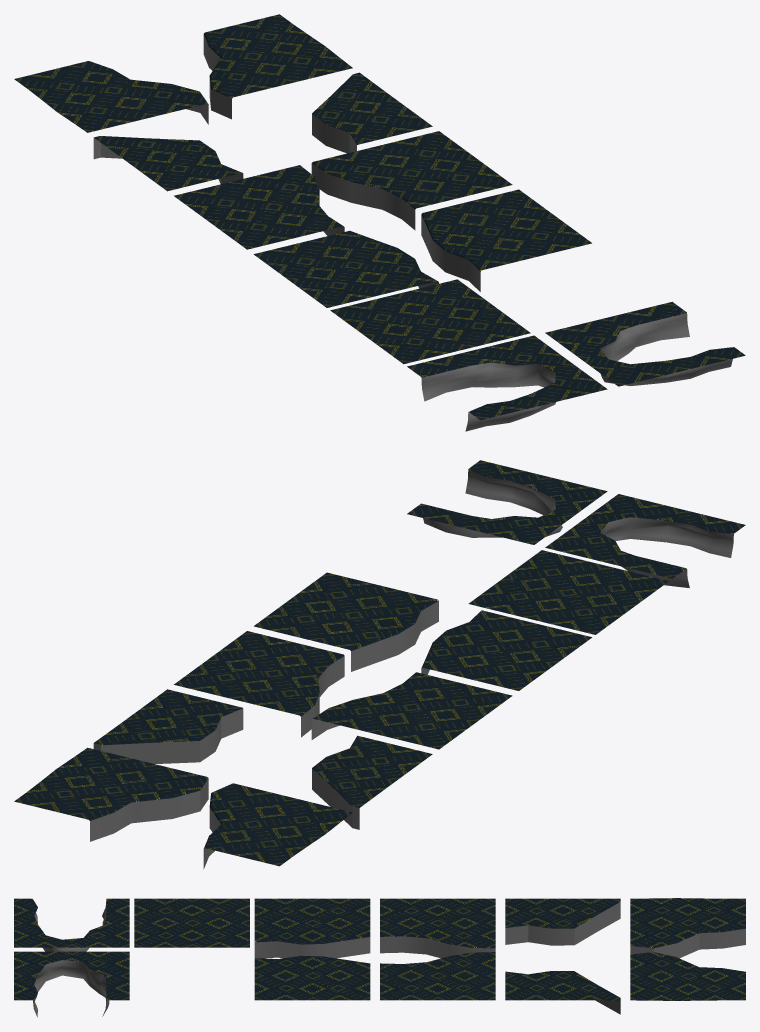
Rendered from Tiles.fbx.
3 renders of one model, top to bottom at view 1: azimuth 30°, elevation 25°; view 2: azimuth 150°, elevation 25°; view 3: azimuth 270°, elevation 25°, orthographic. The views are drawn at different scales.
Parts seen in each view (by area): view 1: Crack_2_2, Crack_1_2, Tile, FullBreak_1, Crack_4_2, Crack_2_1, Crack_1_1, FullBreak_2, Crack_4_1, Crack_3_2, Crack_3_1; view 2: Crack_4_2, Crack_1_2, Tile, Crack_2_2, FullBreak_1, Crack_2_1, Crack_1_1, Crack_4_1, FullBreak_2, Crack_3_2, Crack_3_1; view 3: Crack_1_1, Crack_2_1, Crack_4_1, Tile, Crack_1_2, Crack_2_2, Crack_3_1, FullBreak_2, Crack_4_2, FullBreak_1, Crack_3_2.
Boxes of the visible parts, bbox=[...] form: Crack_2_2: bbox=[311, 131, 512, 230]; Crack_1_2: bbox=[421, 189, 591, 291]; Tile: bbox=[330, 279, 530, 364]; FullBreak_1: bbox=[407, 335, 607, 431]; Crack_4_2: bbox=[203, 14, 352, 119]; Crack_2_1: bbox=[174, 165, 344, 249]; Crack_1_1: bbox=[253, 230, 438, 307]; FullBreak_2: bbox=[545, 301, 745, 386]; Crack_4_1: bbox=[14, 61, 208, 132]; Crack_3_2: bbox=[312, 72, 432, 153]; Crack_3_1: bbox=[93, 136, 243, 191]; Crack_4_2: bbox=[14, 747, 208, 841]; Crack_1_2: bbox=[254, 572, 438, 671]; Tile: bbox=[468, 550, 668, 634]; Crack_2_2: bbox=[174, 631, 344, 737]; FullBreak_1: bbox=[545, 494, 745, 588]; Crack_2_1: bbox=[311, 672, 512, 749]; Crack_1_1: bbox=[421, 610, 591, 690]; Crack_4_1: bbox=[203, 783, 352, 869]; FullBreak_2: bbox=[407, 460, 607, 544]; Crack_3_2: bbox=[93, 689, 243, 763]; Crack_3_1: bbox=[312, 735, 432, 829]; Crack_1_1: bbox=[254, 898, 370, 958]; Crack_2_1: bbox=[380, 898, 495, 958]; Crack_4_1: bbox=[630, 898, 745, 958]; Tile: bbox=[134, 898, 249, 947]; Crack_1_2: bbox=[254, 955, 370, 1000]; Crack_2_2: bbox=[380, 952, 495, 1000]; Crack_3_1: bbox=[505, 898, 620, 945]; FullBreak_2: bbox=[14, 951, 129, 1017]; Crack_4_2: bbox=[630, 952, 745, 1000]; FullBreak_1: bbox=[14, 898, 129, 951]; Crack_3_2: bbox=[505, 971, 620, 1014].
Size of the model in its own units: 50.57 by 4 by 152.
